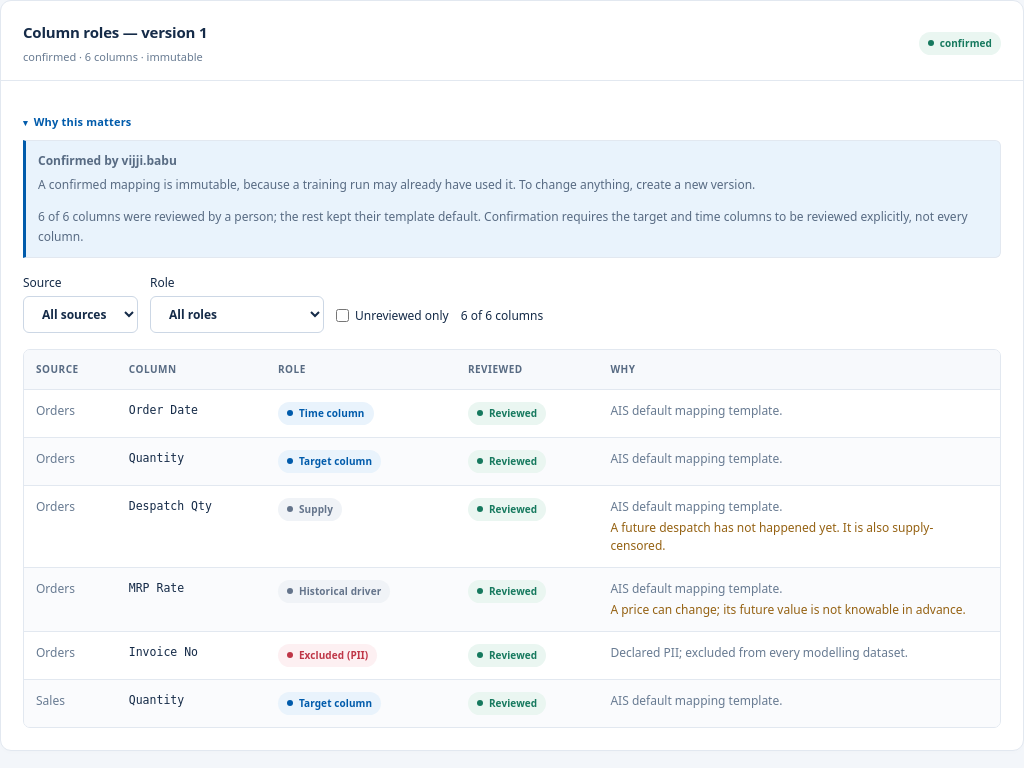
Test: RoleEditor › can filter down to unreviewed columns only
The width and height of the screenshot is (1024, 768).
Click the checkbox labelled "Unreviewed only" at x=342, y=316, box left=336, top=309, right=349, bottom=322
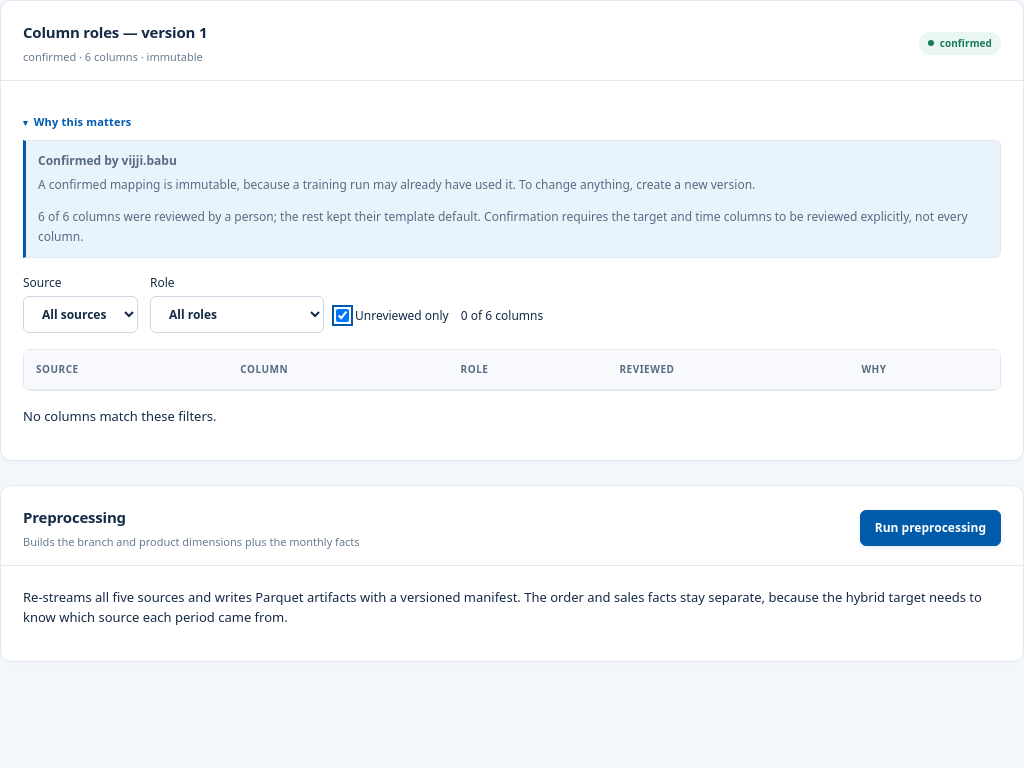
Expected: the text "No columns match these filters." is shown, left=23, top=407, right=216, bottom=425
